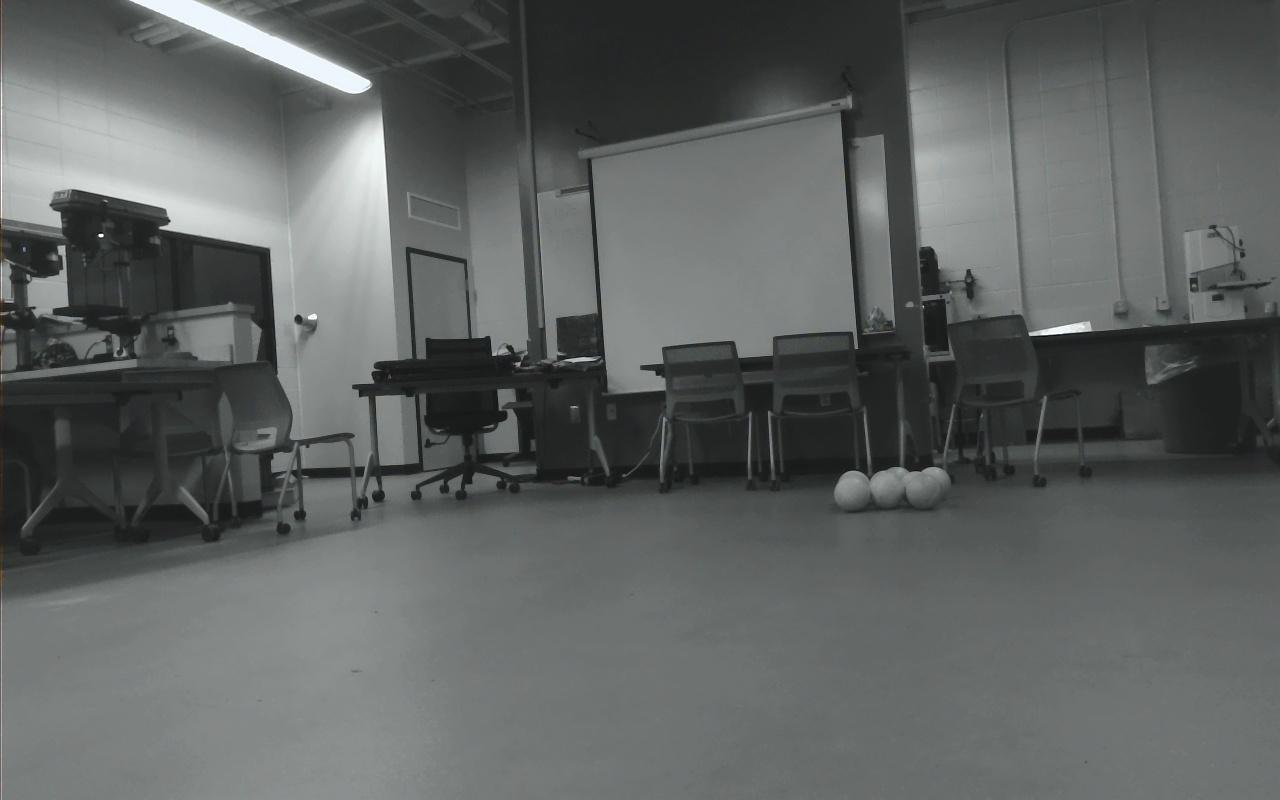Fuel: (870, 473, 905, 509), (906, 474, 941, 510), (869, 469, 904, 504), (834, 478, 868, 512), (919, 466, 951, 502), (838, 470, 872, 502), (836, 474, 870, 506), (883, 466, 913, 502), (901, 471, 930, 501)
